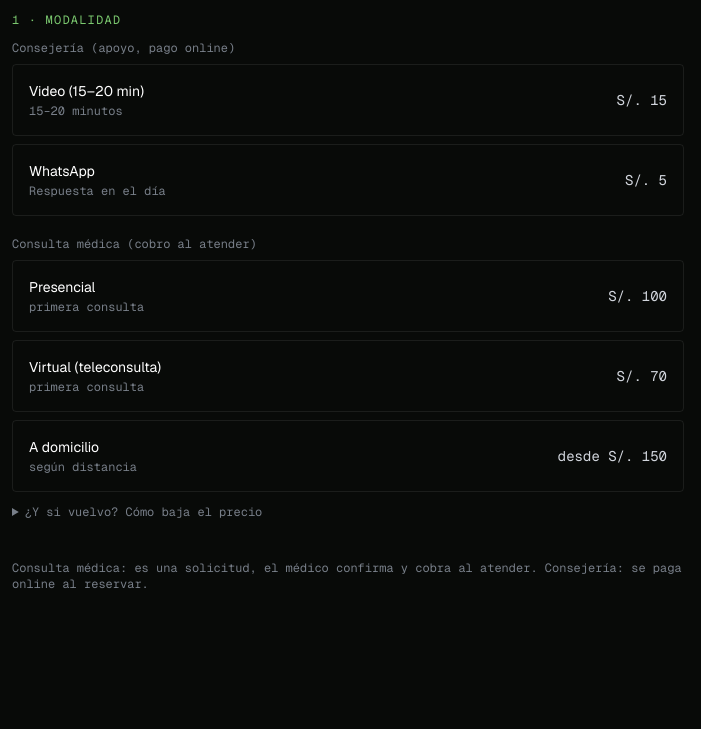
Test: AgendarForm › A domicilio NO muestra horario y salta a los datos
What coordinates should you click on to do the following:
click the text "A domicilio"
I would click on:
 (64, 447)
Its box is [29,438,99,456].
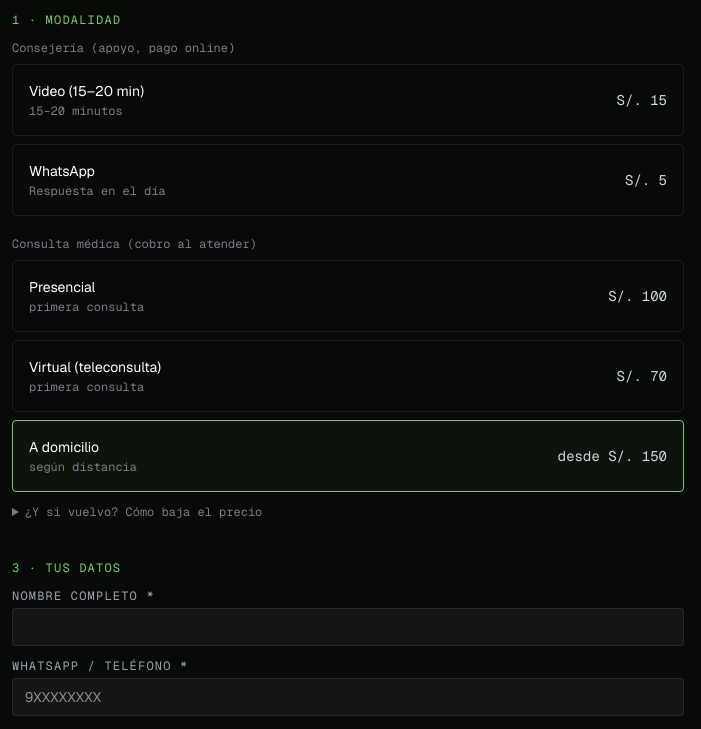
Expected: the text "3 · Tus datos" is shown, [12,560,121,576]
